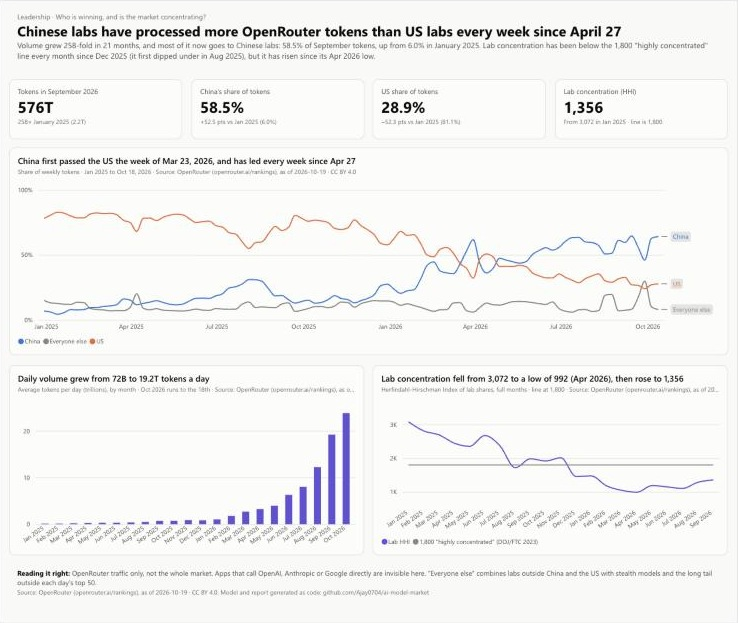

The page's visual inventory and layout, read from the dashboard file:
{"tool":"tableau","page":{"name":"1 · Leadership","canvas":[1400,950],"ordinal":0},"visuals":[{"type":"text","box":[0,0,1400,123.5]},{"type":"text","box":[0,123.5,350,104.5]},{"type":"text","box":[350,123.5,350,104.5]},{"type":"text","box":[700,123.5,350,104.5]},{"type":"text","box":[1050,123.5,350,104.5]},{"type":"worksheet","title":"Weekly share","mark":"Line","rows":["Share"],"cols":["Week"],"box":[0,228,1400,380]},{"type":"worksheet","title":"Daily volume","mark":"Bar","rows":["Tokens per Day (T)"],"cols":["Month"],"box":[0,608,700,275.5]},{"type":"worksheet","title":"Concentration","mark":"Line","rows":["Lab HHI"],"cols":["Month"],"box":[700,608,700,275.5]},{"type":"text","box":[0,883.5,1400,66.5]}]}

Visuals, with their boxes on the page's 1400x950 design canvas (x1, y1, x2, y2). These are canvas units, not pixel positions in the 738x623 screenshot, which may show the page scaled, cropped or inside an application window:
text: [0, 0, 1400, 124]
text: [0, 124, 350, 228]
text: [350, 124, 700, 228]
text: [700, 124, 1050, 228]
text: [1050, 124, 1400, 228]
"Weekly share" worksheet (Line marks): [0, 228, 1400, 608]
"Daily volume" worksheet (Bar marks): [0, 608, 700, 884]
"Concentration" worksheet (Line marks): [700, 608, 1400, 884]
text: [0, 884, 1400, 950]
